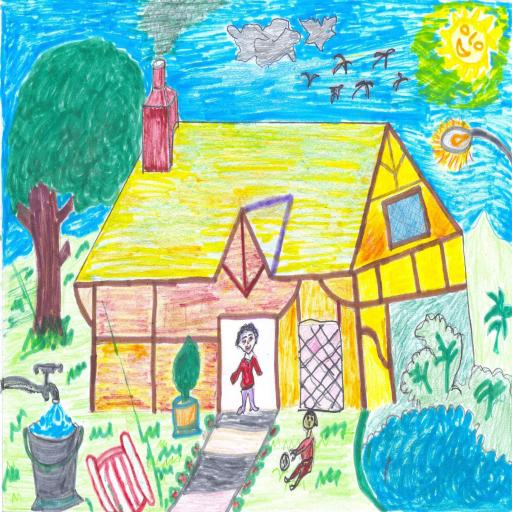person: (272, 411, 328, 501), (224, 318, 272, 419)
